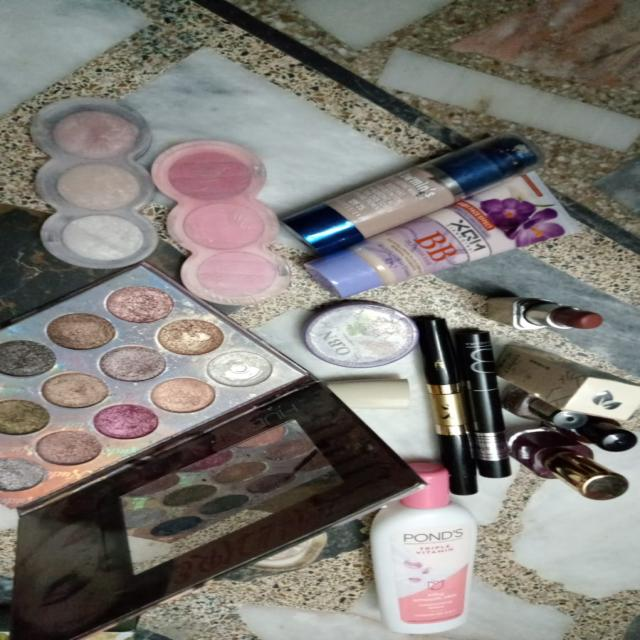eye liner: (425, 310, 527, 500)
eye shade: (0, 269, 293, 504), (150, 140, 294, 313)
foundation: (301, 102, 613, 303)
highlighter: (27, 87, 149, 273), (309, 290, 423, 376)
lip stick: (496, 292, 614, 336)
lotion: (366, 452, 495, 640)
nail polish: (529, 340, 640, 507)
